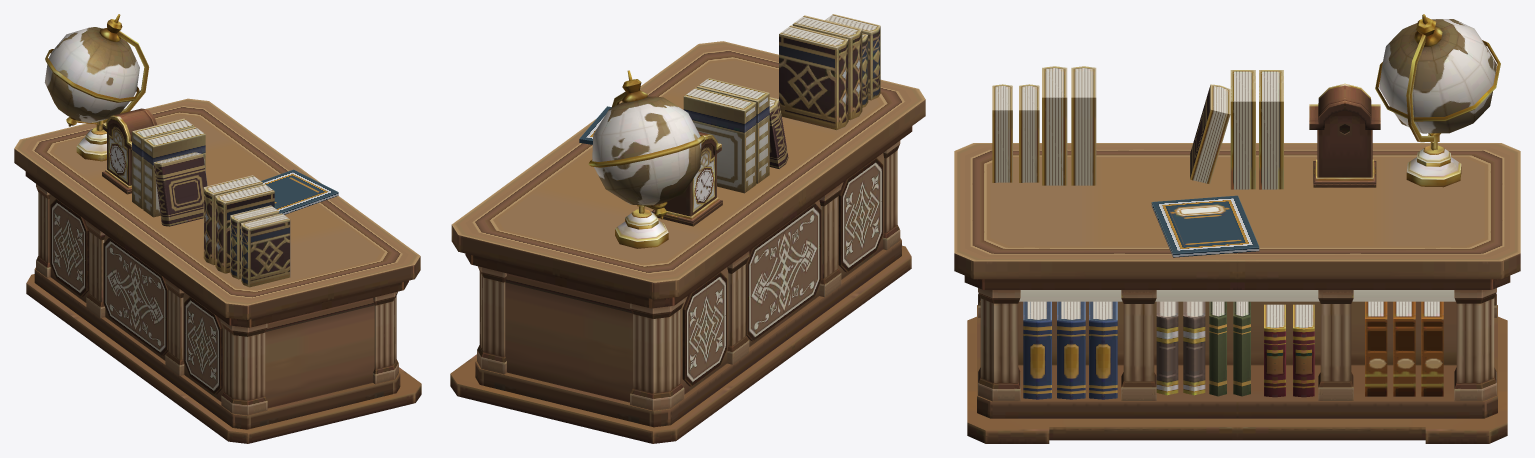
Rendered from my_trinityclassroom_01_desk_02.glb.
The picture shows the model from 3 angles, left to right: view 1: azimuth 30°, elevation 25°; view 2: azimuth 150°, elevation 25°; view 3: azimuth 270°, elevation 25°; orthographic projection. The views are drawn at different scales.
Visible parts, largest first — view 1: my_trinityclassroom_01_desk_02; view 2: my_trinityclassroom_01_desk_02; view 3: my_trinityclassroom_01_desk_02.
Part boxes in pixels (bbox=[...]): my_trinityclassroom_01_desk_02: bbox=[14, 14, 421, 443]; my_trinityclassroom_01_desk_02: bbox=[450, 14, 925, 443]; my_trinityclassroom_01_desk_02: bbox=[954, 14, 1520, 443].
Bounding box in the file's own units: 0.00585 × 0.00787 × 0.0115.
2 materials, 2 textured.
